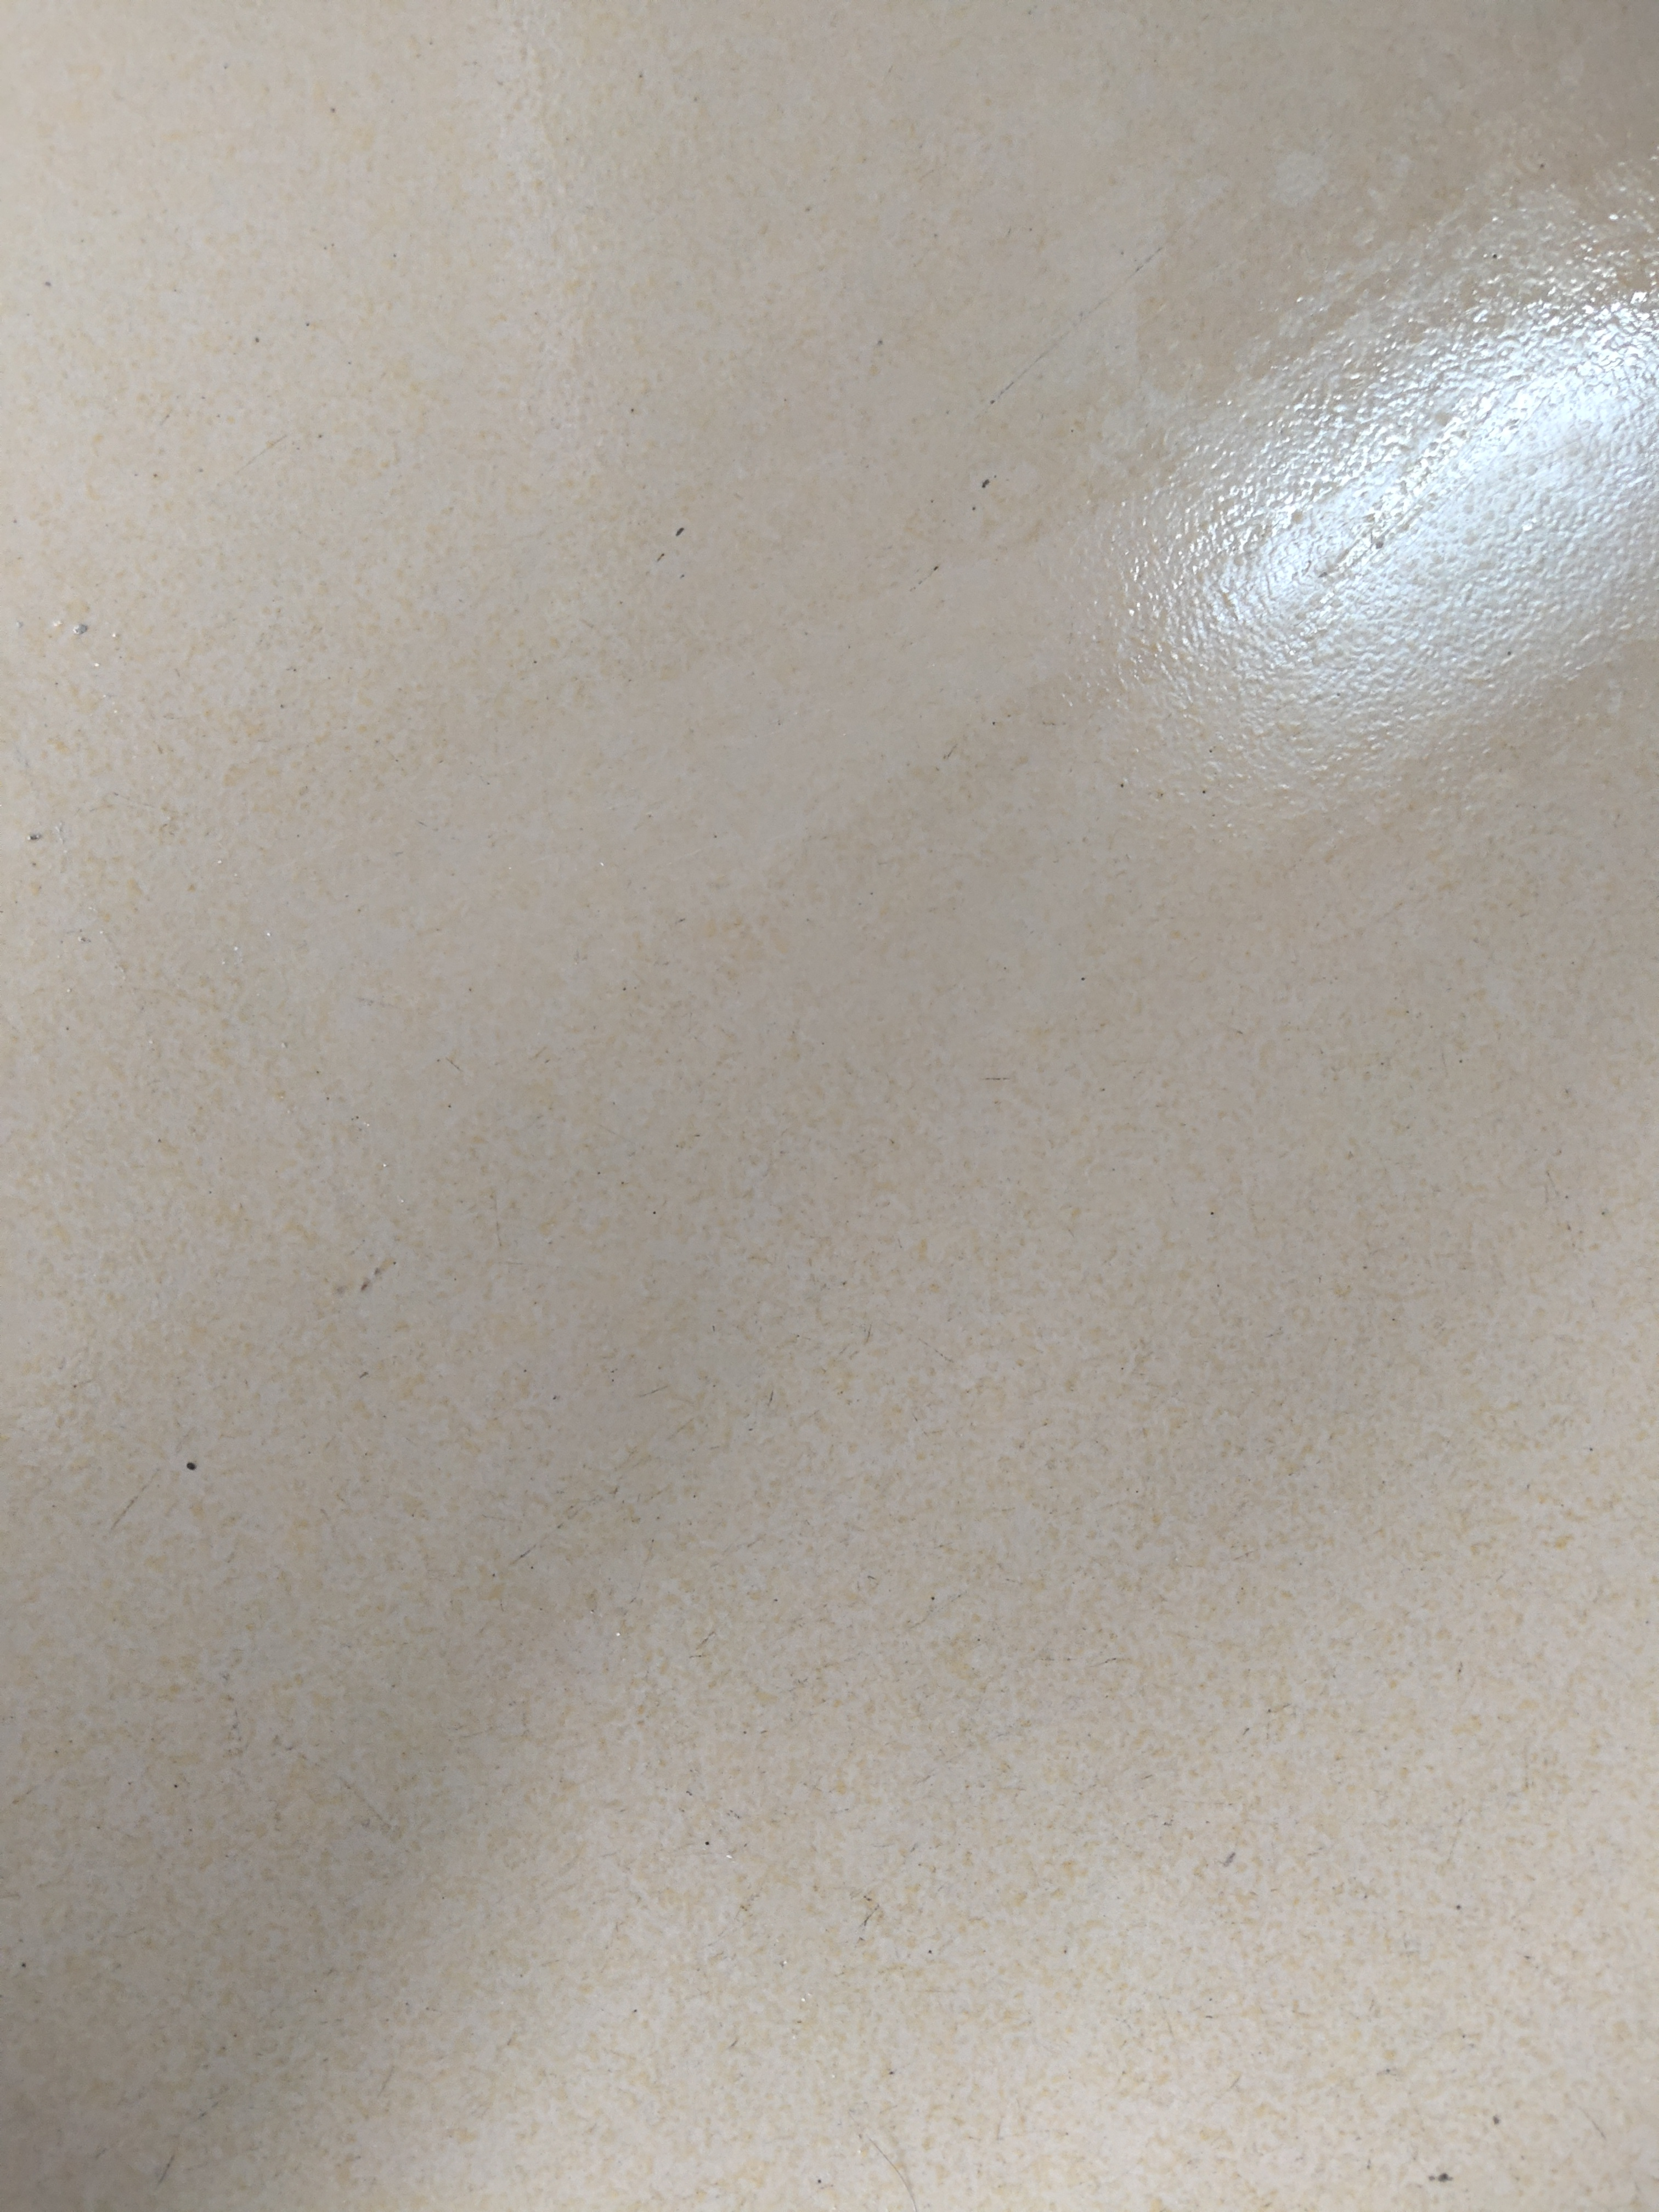reflection: (1127, 253, 1659, 704)
